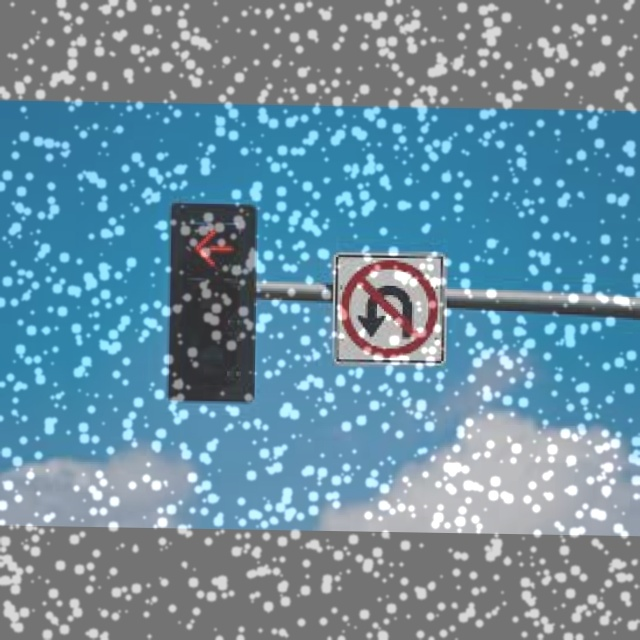U_Turn_Prohibited: (337, 256, 444, 362)
